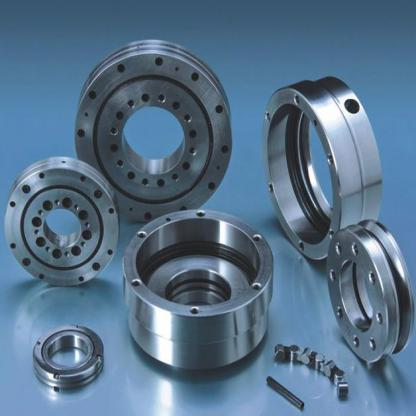FOD: (71, 40, 236, 224), (0, 155, 121, 288), (31, 322, 105, 394)
